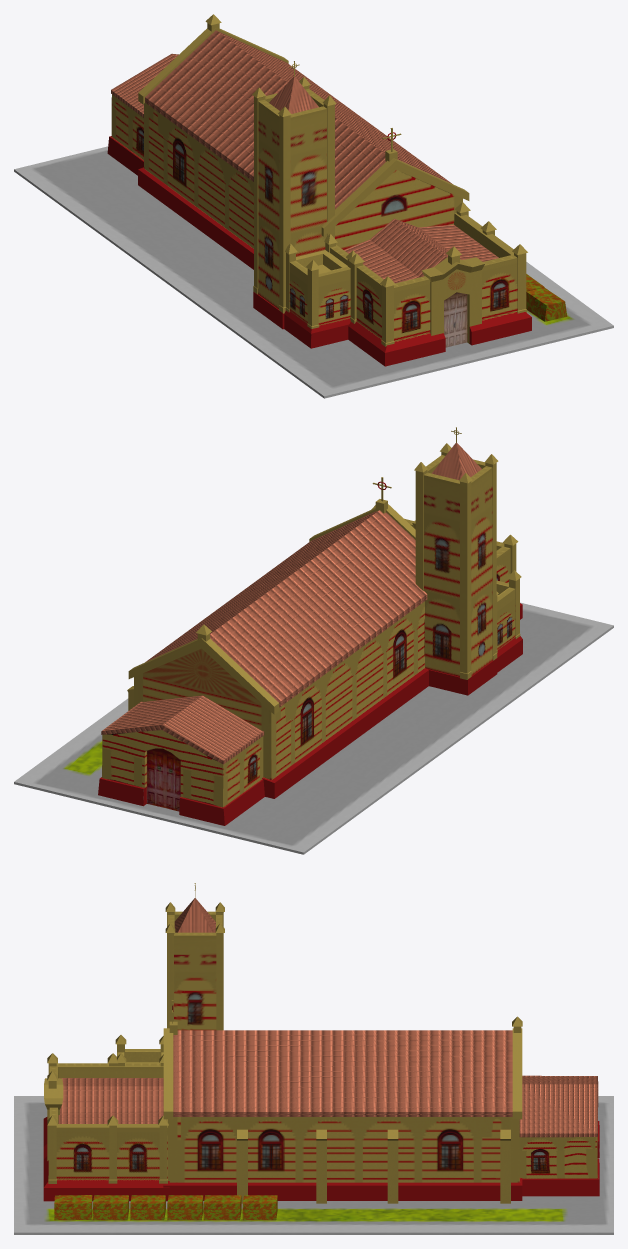
The model's file is igreja nossa senhoraLOD1.fbx.
3 views of the same model, one above another, from view 1: azimuth 30°, elevation 25°; view 2: azimuth 150°, elevation 25°; view 3: azimuth 270°, elevation 25° (orthographic). The views are drawn at different scales.
Parts seen in each view (by area): view 1: IgrejaNossaSenhoraLOD1; view 2: IgrejaNossaSenhoraLOD1; view 3: IgrejaNossaSenhoraLOD1.
Boxes of the visible parts, x1=… form: IgrejaNossaSenhoraLOD1: x1=14, y1=14, x2=613, y2=398; IgrejaNossaSenhoraLOD1: x1=14, y1=427, x2=613, y2=854; IgrejaNossaSenhoraLOD1: x1=14, y1=883, x2=613, y2=1234.
Size of the model in its own units: 1629 by 1363 by 3022.
